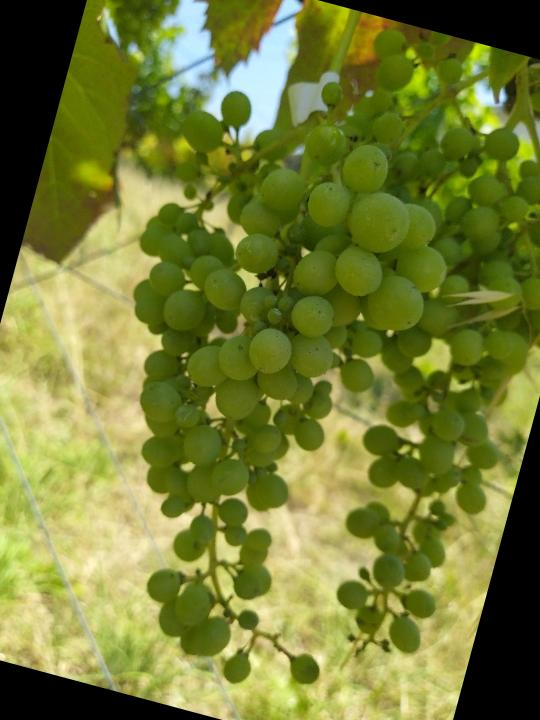grape: (27, 39, 491, 714)
